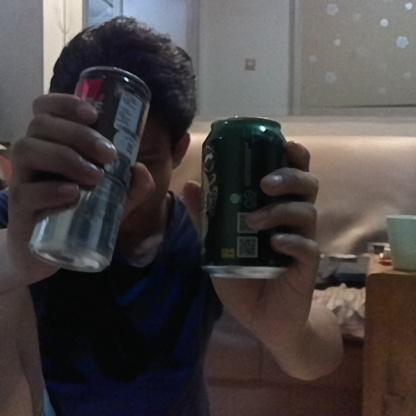alumunium_can: (28, 63, 154, 275), (196, 112, 295, 284)
